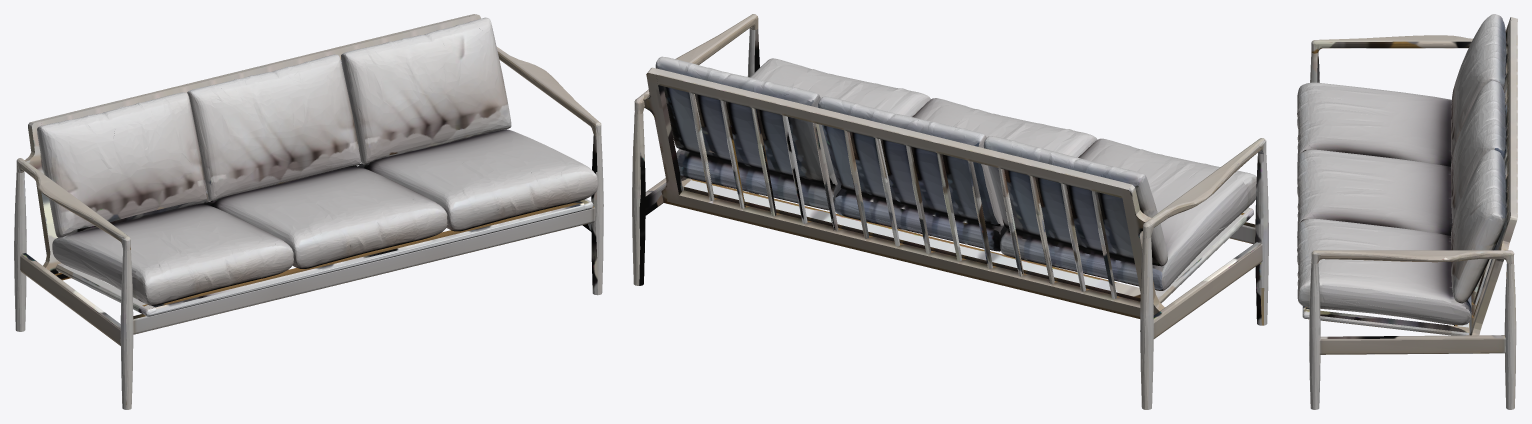
The model's file is edited_mesh.glb.
3 renders of one model, left to right at view 1: azimuth 30°, elevation 25°; view 2: azimuth 150°, elevation 25°; view 3: azimuth 270°, elevation 25°, orthographic. The views are drawn at different scales.
Parts seen in each view (by area): view 1: solid_001_wire; view 2: solid_001_wire; view 3: solid_001_wire.
Part boxes in pixels (<box>): solid_001_wire: <box>14,14,603,409</box>; solid_001_wire: <box>632,14,1268,409</box>; solid_001_wire: <box>1297,14,1517,409</box>.
Bounding box in the file's own units: 2 × 0.7861 × 0.8303.
Materials: 1 (1 with a texture image).
